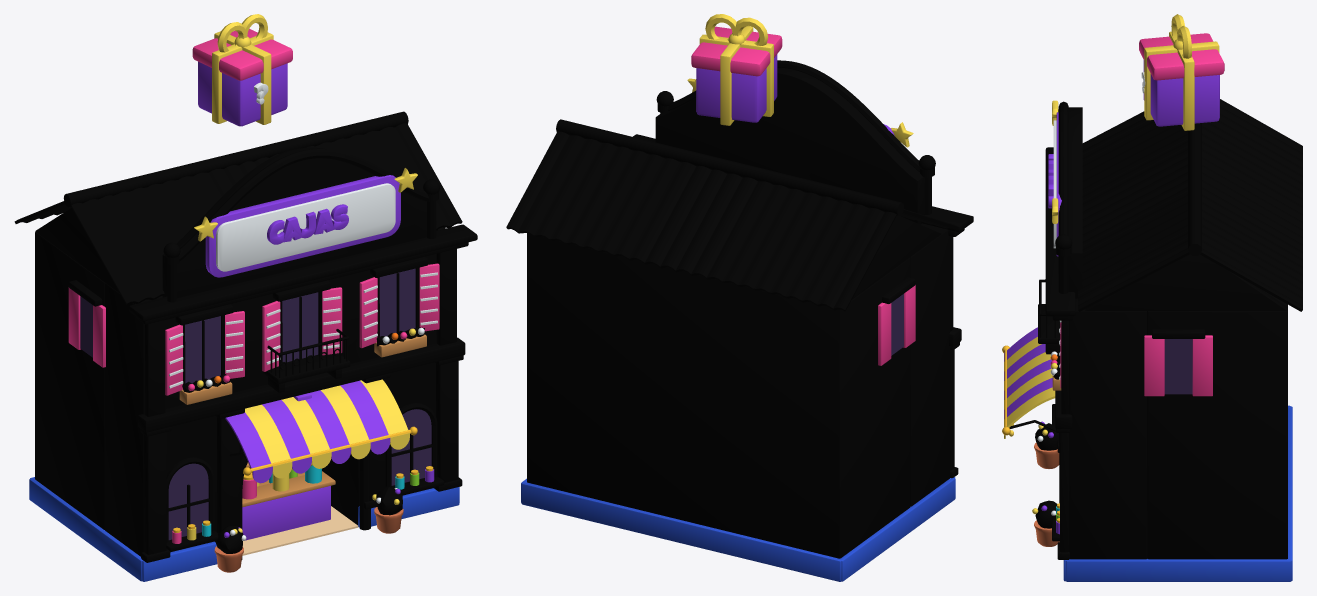
Rendered from lobby_shop_cajas.obj.
3 views of the same model, side by side, from view 1: azimuth 30°, elevation 25°; view 2: azimuth 150°, elevation 25°; view 3: azimuth 270°, elevation 25° (orthographic).
Parts seen in each view (by area): view 1: lobby_shop_cajas, lobby_shop_cajas_Sign; view 2: lobby_shop_cajas; view 3: lobby_shop_cajas, lobby_shop_cajas_Sign.
Boxes of the visible parts, left/top/right/bottom form: lobby_shop_cajas: left=14, top=14, right=477, bottom=581; lobby_shop_cajas_Sign: left=194, top=168, right=417, bottom=277; lobby_shop_cajas: left=506, top=14, right=973, bottom=581; lobby_shop_cajas: left=1002, top=14, right=1302, bottom=581; lobby_shop_cajas_Sign: left=1048, top=100, right=1061, bottom=256.
Bounding box in the file's own units: 25 × 34.1 × 19.25.
Materials: 2 (2 with a texture image).
